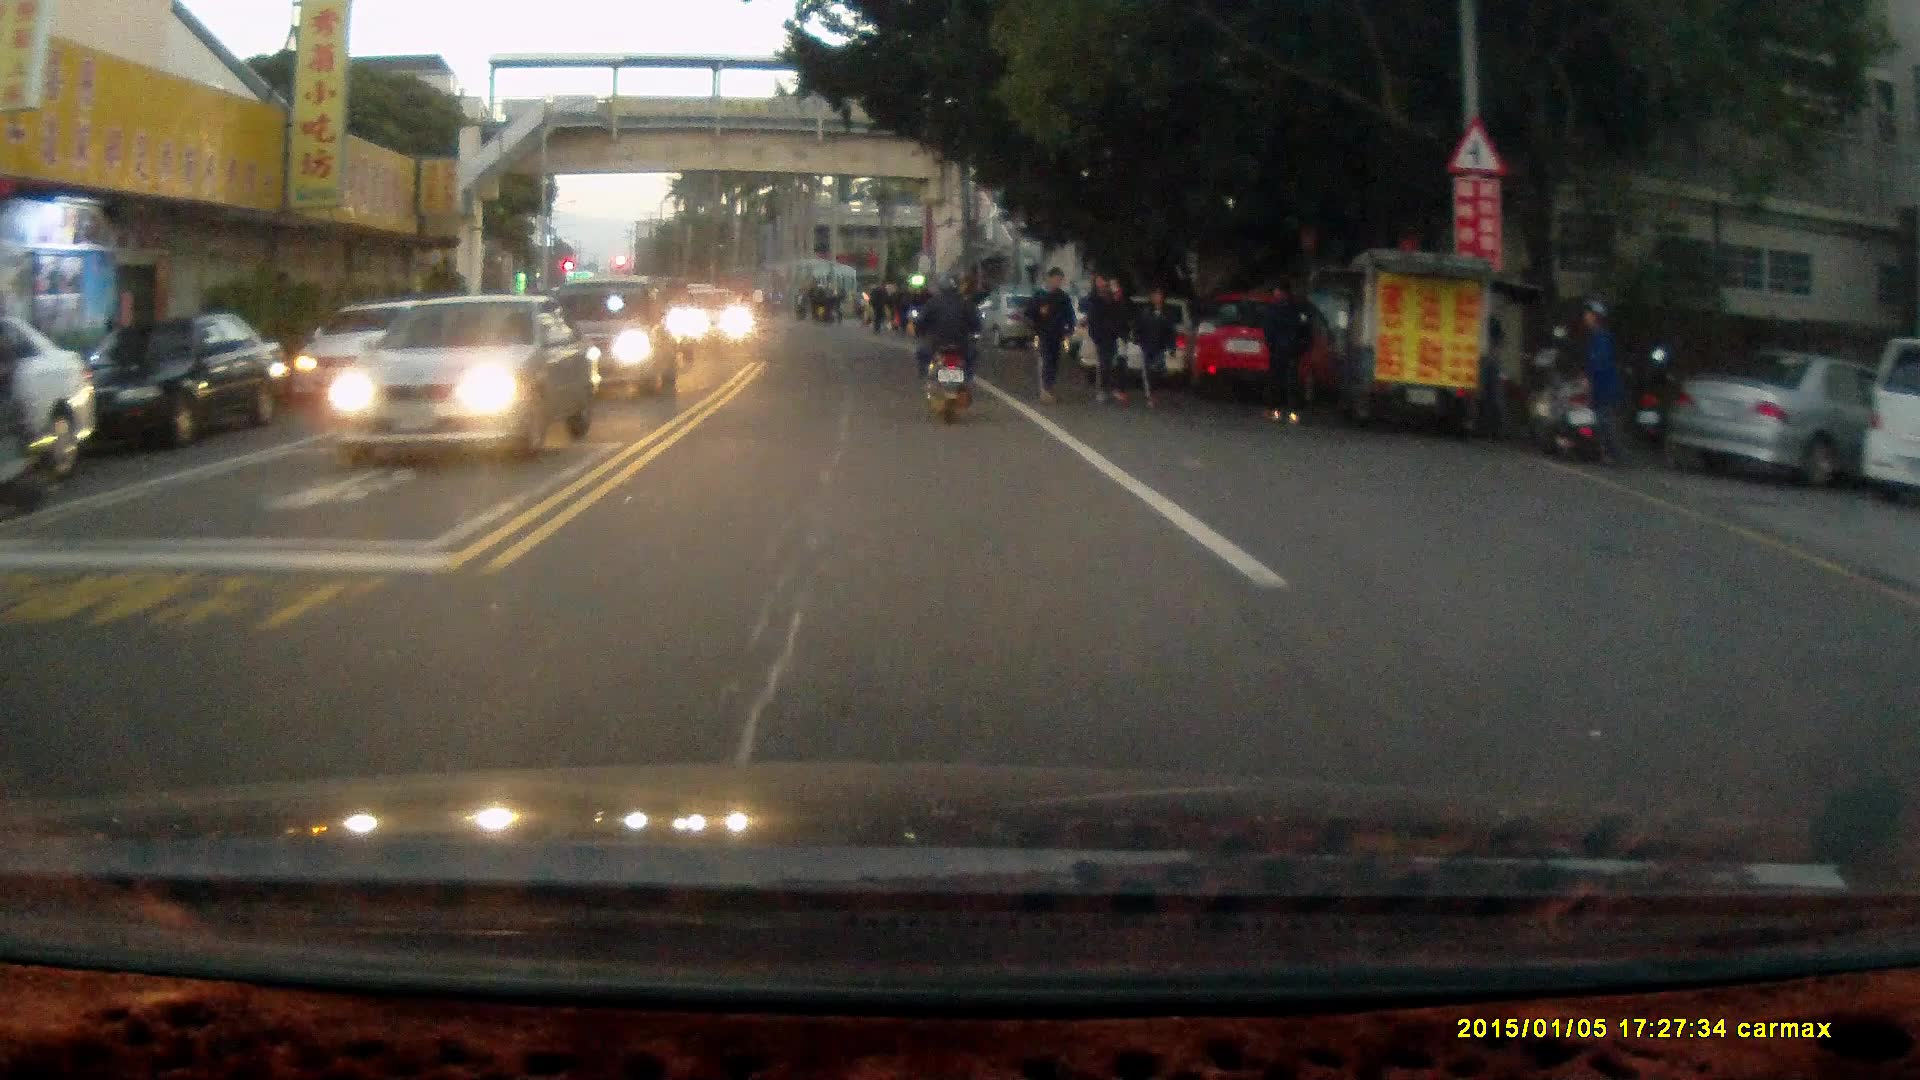pedestrian: (1571, 279, 1626, 449), (1253, 274, 1314, 427), (1022, 261, 1075, 406), (1134, 283, 1182, 413), (1083, 270, 1121, 406)
rider: (908, 271, 986, 429)
vehicle: (330, 291, 594, 455), (1672, 343, 1920, 486), (79, 307, 283, 442), (1187, 288, 1342, 399), (549, 273, 680, 399), (1, 311, 98, 484), (974, 292, 1062, 353), (674, 286, 753, 348)
